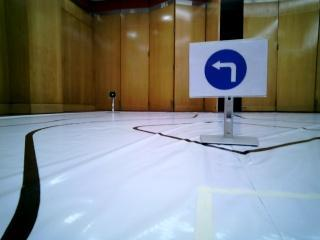left: (191, 45, 261, 92)
